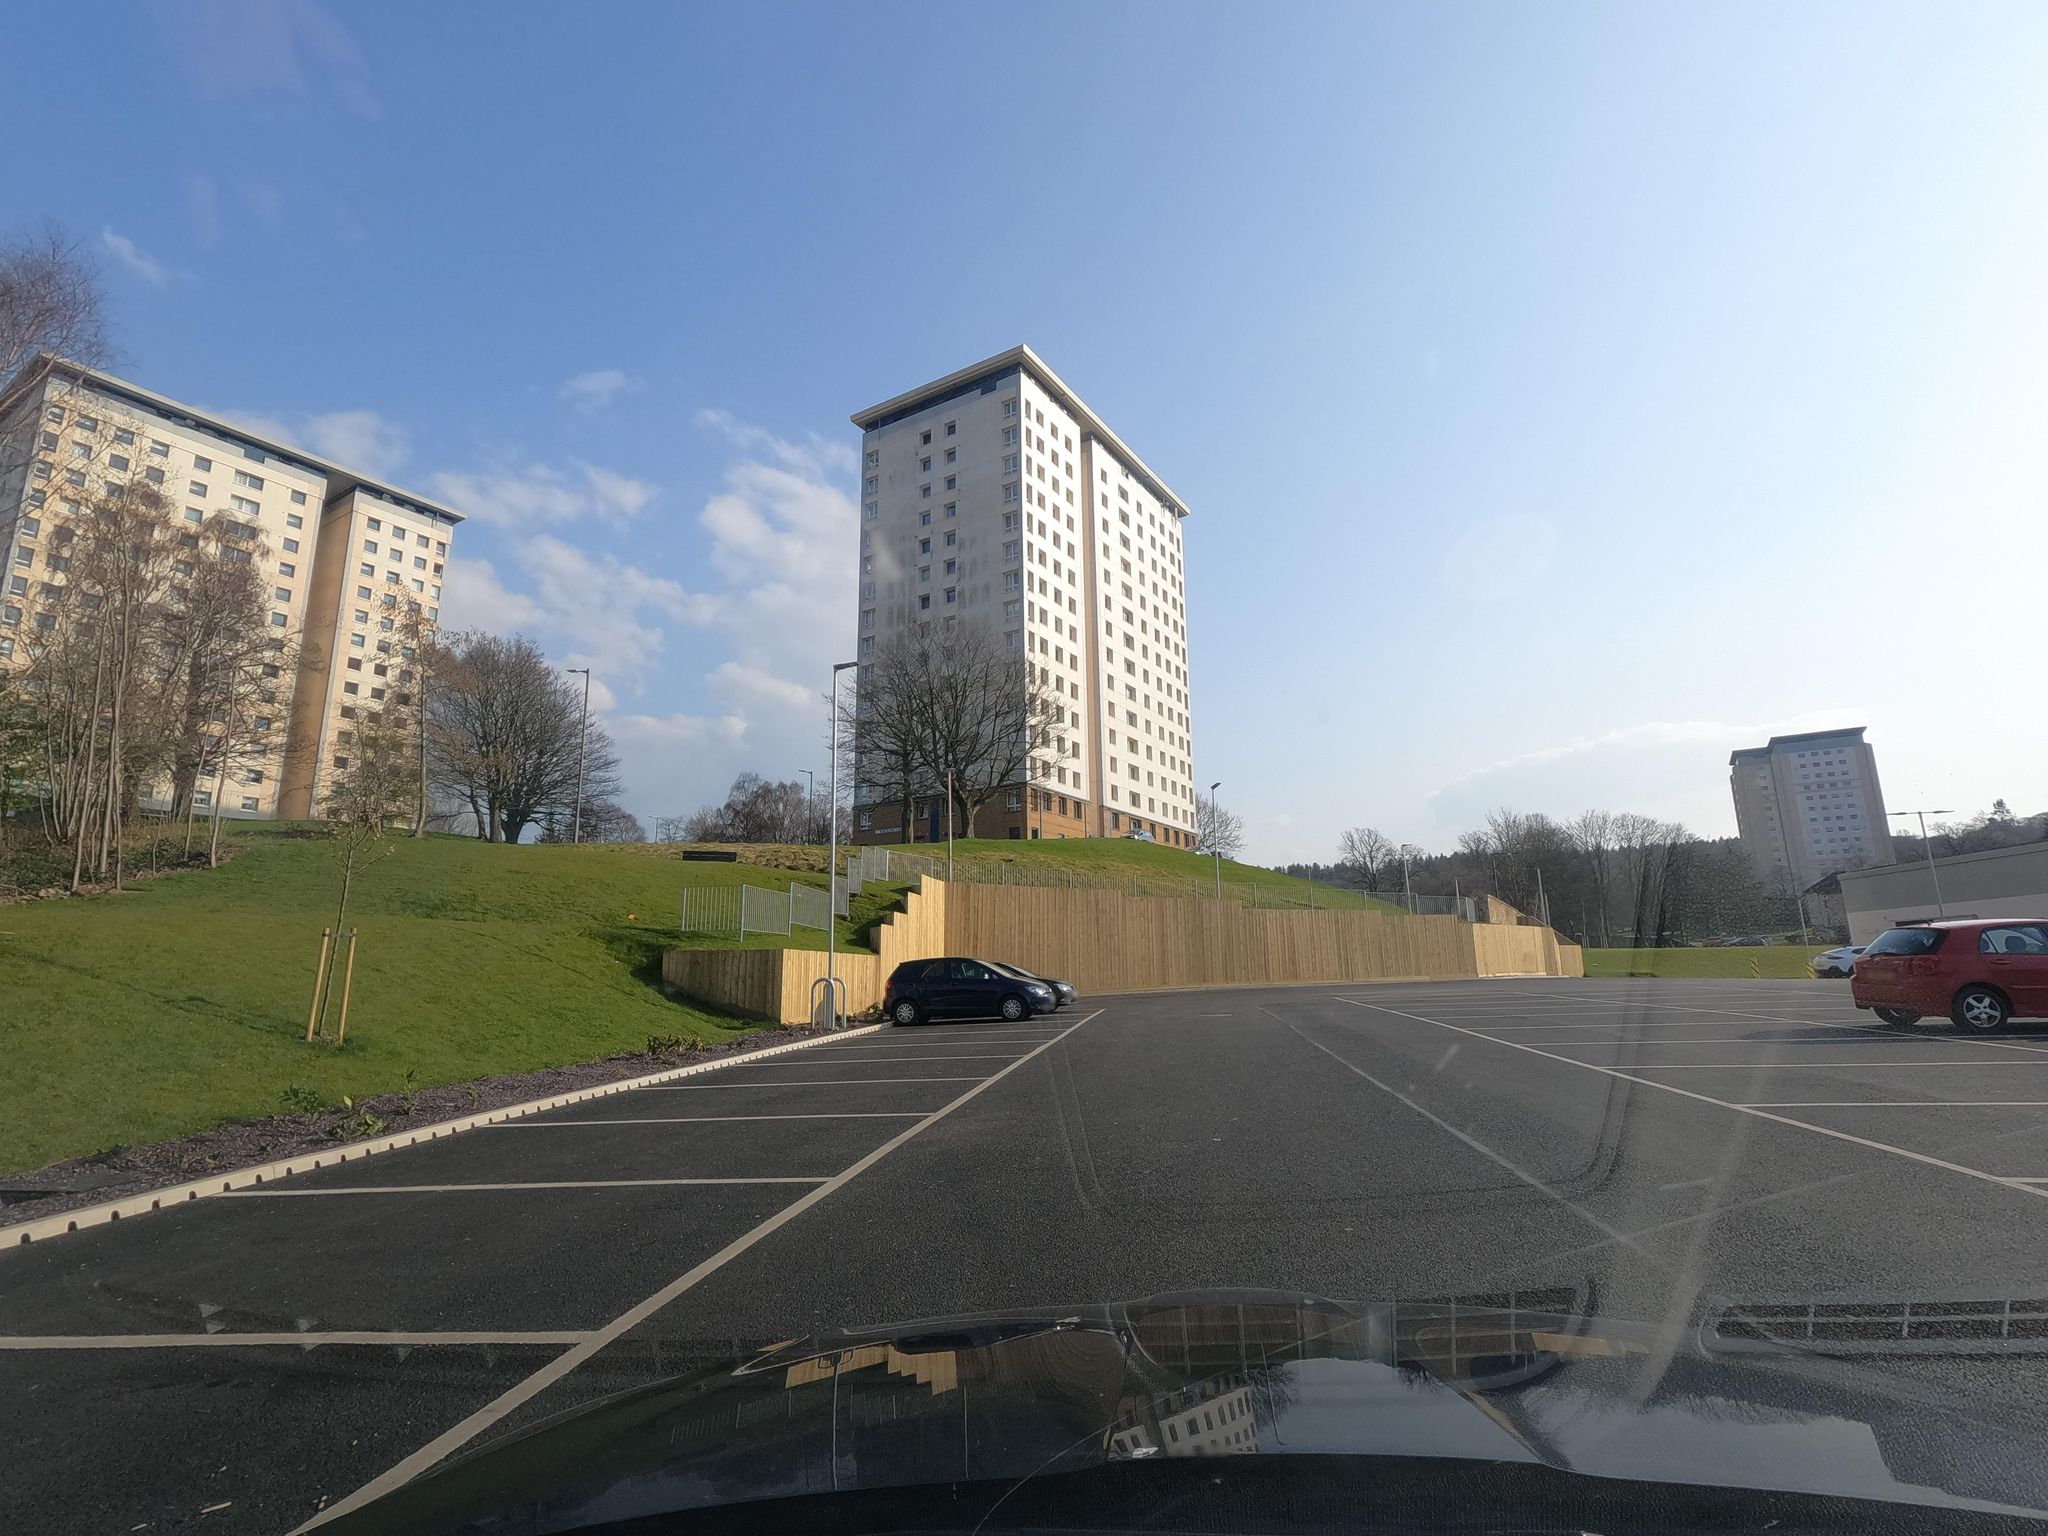car: (1850, 916, 2048, 1033), (880, 957, 1055, 1026), (990, 962, 1079, 1010), (1811, 945, 1869, 979)
